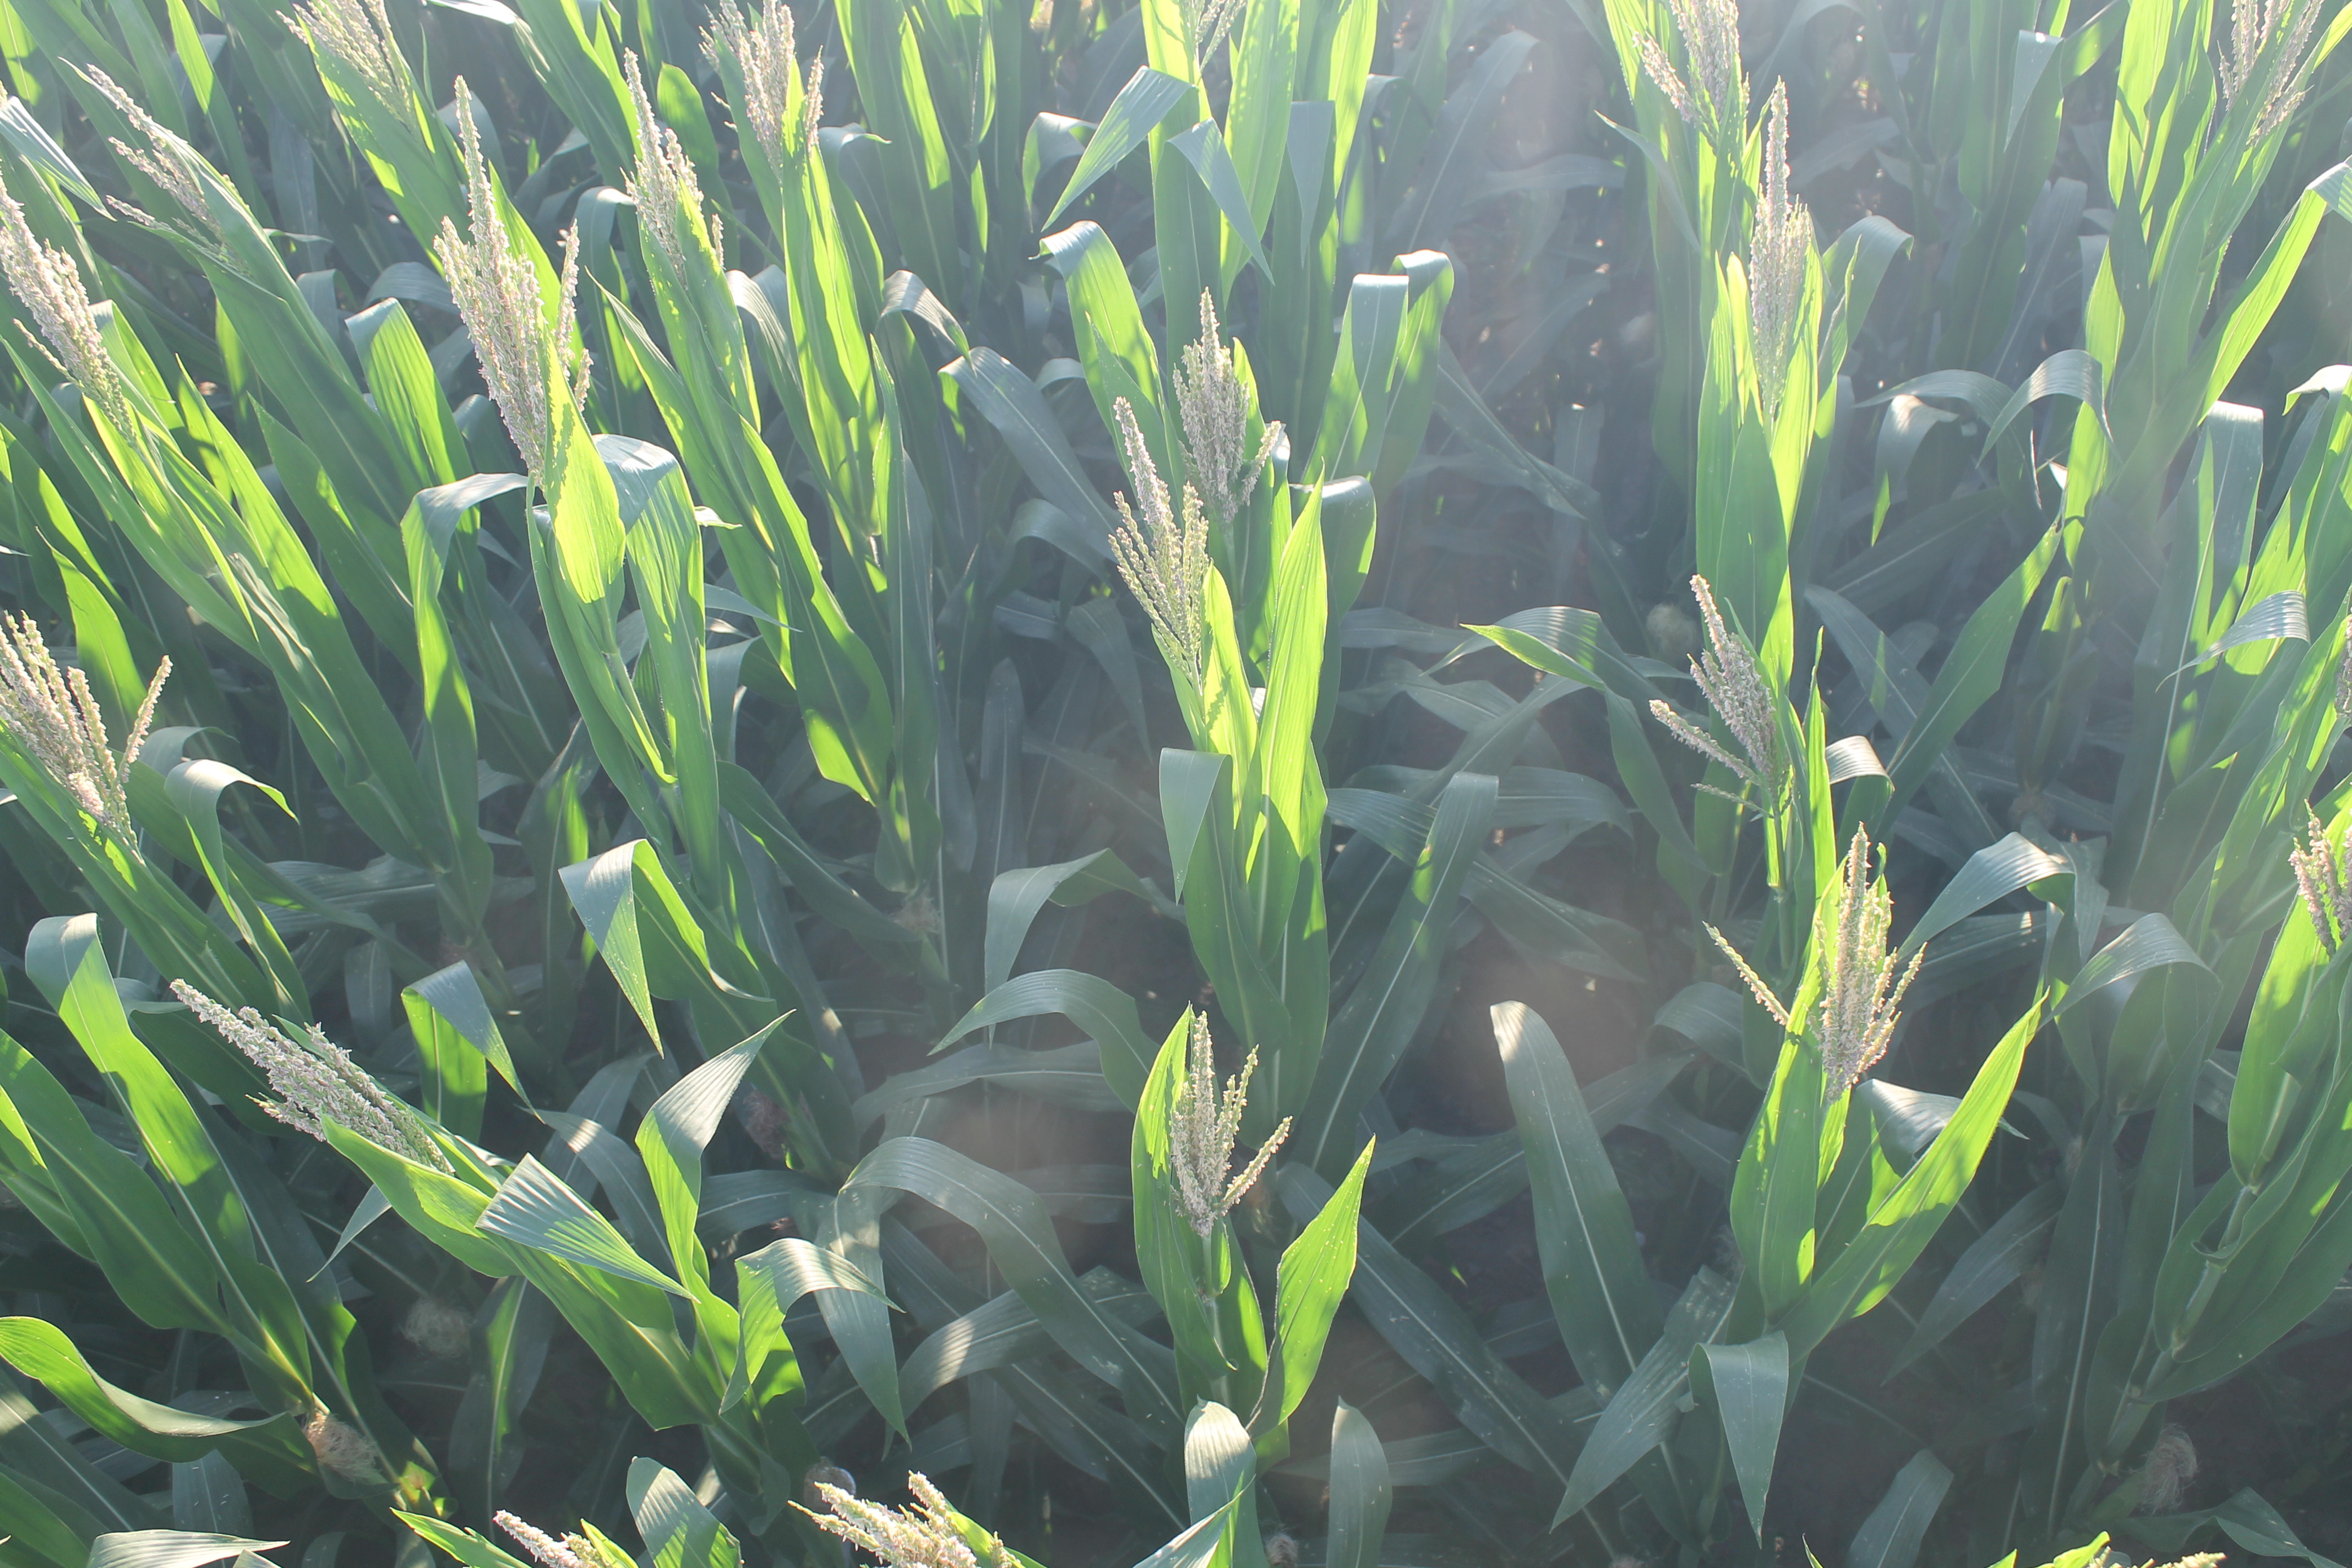Maize: (159, 966, 493, 1221), (1704, 840, 1942, 1097), (425, 80, 572, 478), (0, 597, 194, 868), (1648, 584, 1820, 796), (1141, 1006, 1298, 1225), (1076, 395, 1188, 677), (807, 1447, 1045, 1568), (107, 77, 247, 268), (707, 0, 842, 164), (2198, 0, 2336, 156), (0, 224, 100, 430), (1195, 303, 1304, 478), (604, 61, 695, 259), (1745, 89, 1799, 406), (287, 0, 422, 105), (485, 1491, 656, 1568), (2280, 803, 2352, 971), (1629, 0, 1736, 112), (1157, 0, 1248, 68)
